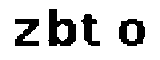b: (46, 5, 77, 50)
o: (118, 16, 148, 51)
t: (81, 13, 105, 48)
z: (8, 17, 41, 48)
